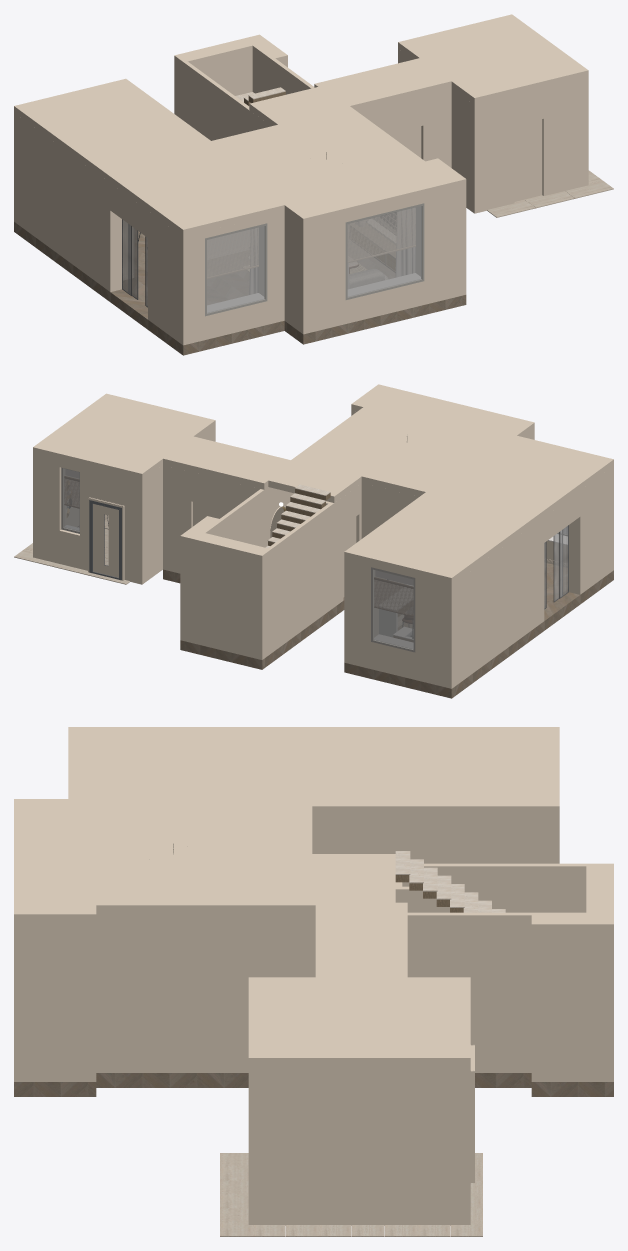
The model's file is living_plain.glb.
3 renders of one model, top to bottom at view 1: azimuth 30°, elevation 25°; view 2: azimuth 150°, elevation 25°; view 3: azimuth 270°, elevation 25°, orthographic. The views are drawn at different scales.
Visible parts, largest first — view 1: BASE, CEIL; view 2: BASE, CEIL, KITCHEN_A; view 3: BASE, CEIL.
Boxes of the visible parts, bbox=[...] form: BASE: bbox=[14, 34, 613, 355]; CEIL: bbox=[14, 14, 588, 236]; BASE: bbox=[14, 411, 613, 698]; CEIL: bbox=[33, 384, 613, 584]; KITCHEN_A: bbox=[379, 585, 413, 641]; BASE: bbox=[14, 816, 613, 1236]; CEIL: bbox=[14, 727, 559, 1067].
Size of the model in its own units: 14.87 by 3.92 by 11.02.
Materials: 111 (39 with a texture image).
